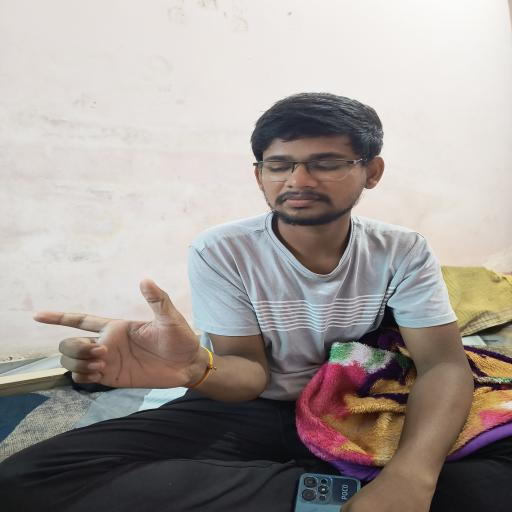Sorry: (15, 270, 242, 412)
